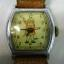watch: (3, 6, 60, 58)
